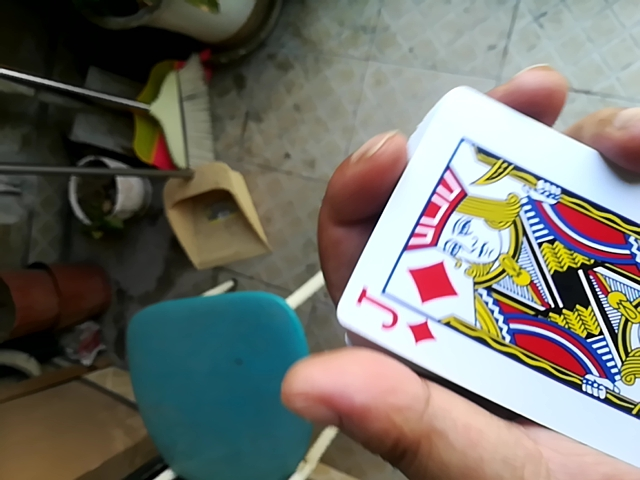fk j: (322, 95, 640, 465)
